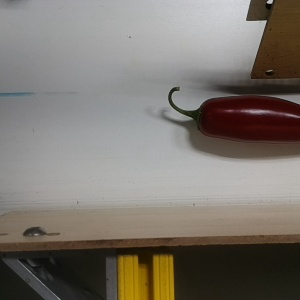Cut Point: (188, 97, 217, 138)
